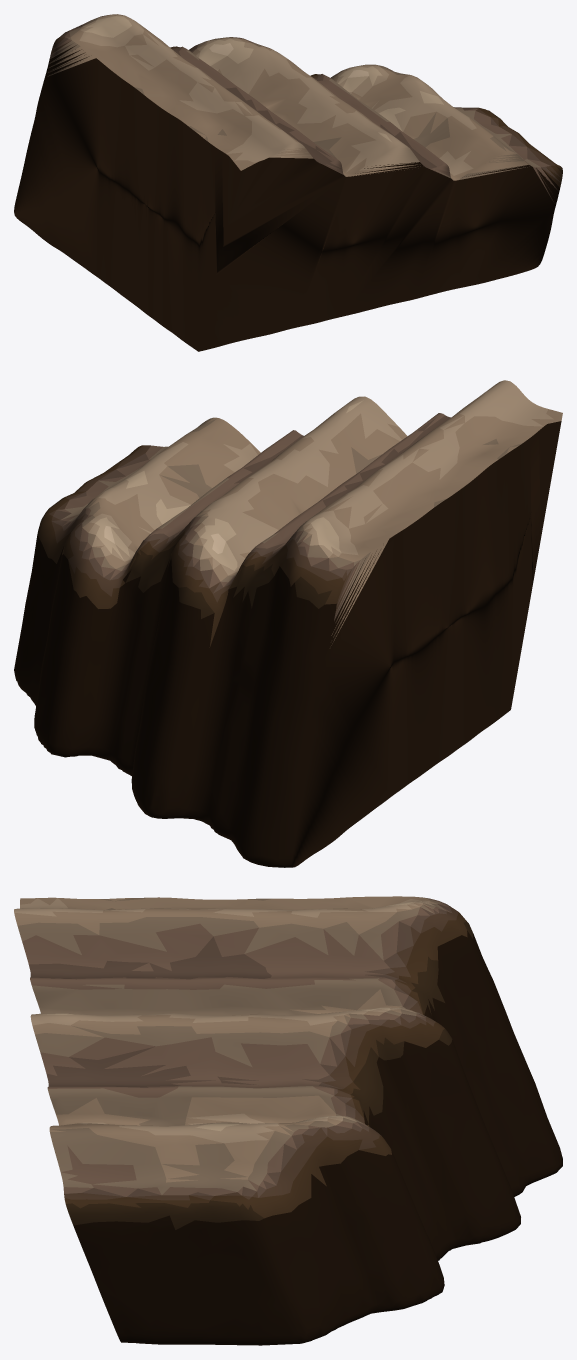
The model's file is drill_rig_tr.glb.
3 views of the same model, one above another, from view 1: azimuth 30°, elevation 25°; view 2: azimuth 150°, elevation 25°; view 3: azimuth 270°, elevation 25° (orthographic). The views are drawn at different scales.
Visible parts, largest first — view 1: drill_rig_tr; view 2: drill_rig_tr; view 3: drill_rig_tr.
Part boxes in pixels (box(x1,y1,x2,y2)): drill_rig_tr: box(14, 14, 562, 351); drill_rig_tr: box(14, 380, 562, 867); drill_rig_tr: box(14, 896, 562, 1345).
Bounding box in the file's own units: 24.07 × 15.8 × 28.46.
